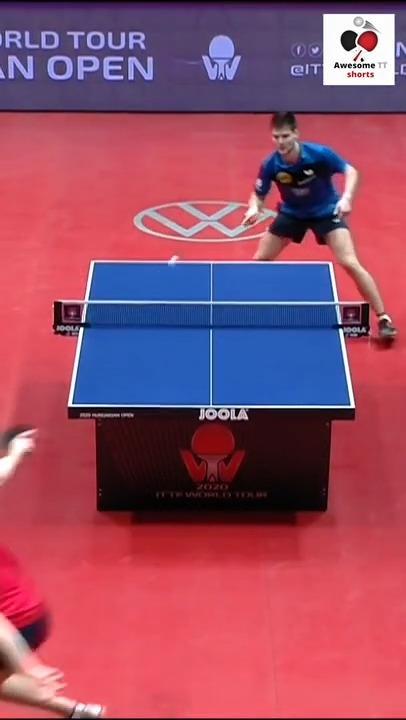Ball: (168, 252, 180, 264)
